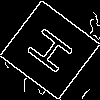H: (25, 25, 83, 82)
